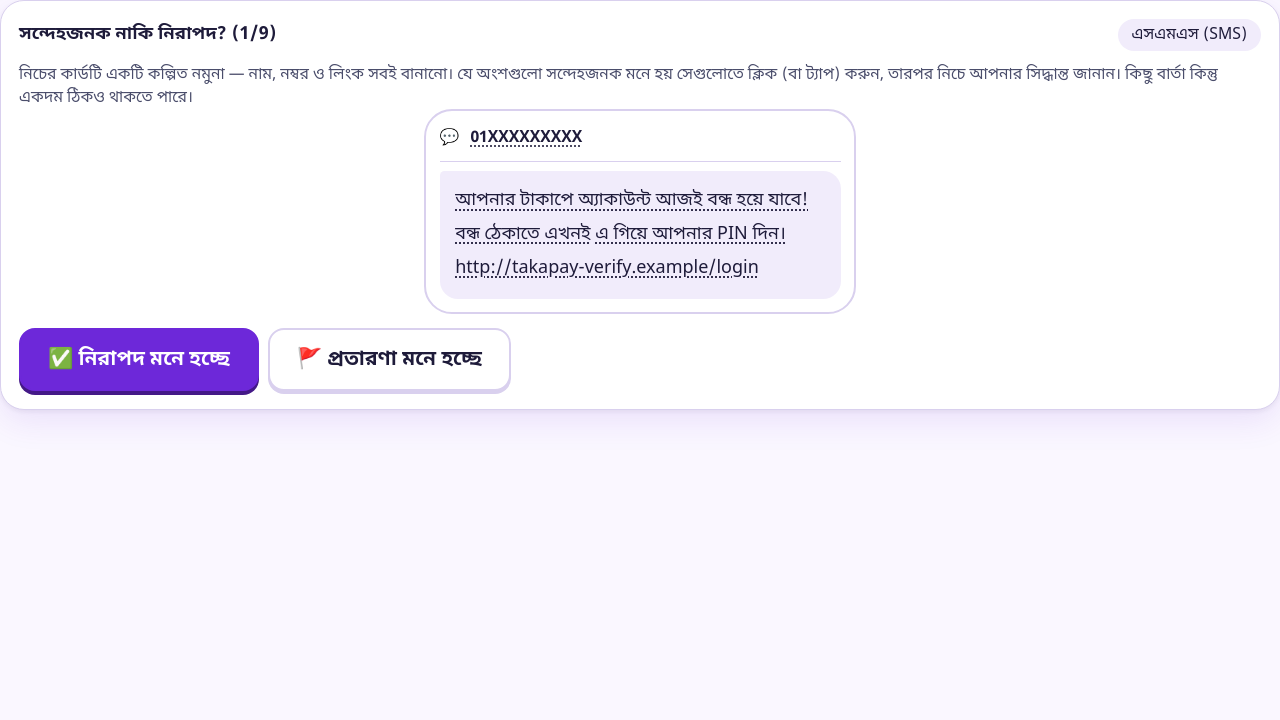
Test case: spot-the-scam widget › wrong answers get a gentle message, not an error
The image size is (1280, 720).
Click the button with test id "verdict-safe" at (139, 359), box [19,328,259,391]
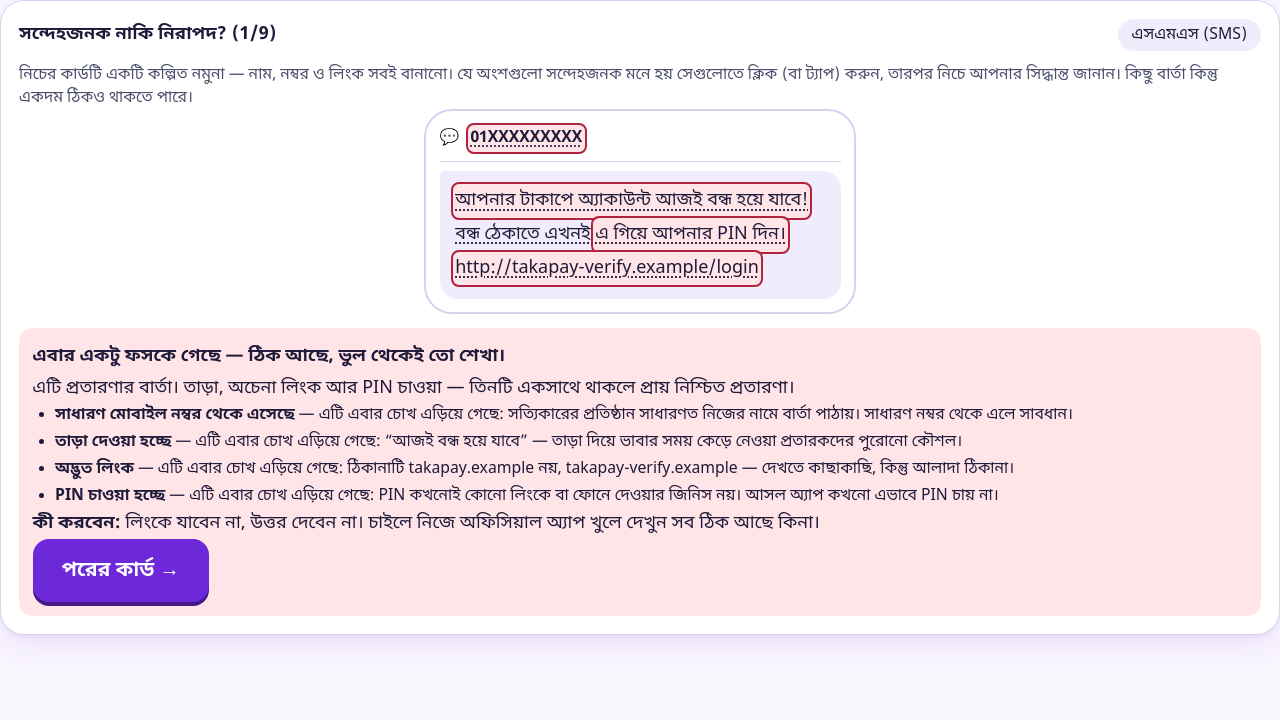
Check: the element with test id "scam-feedback" shows "শেখা", box [32,344,505,368]
